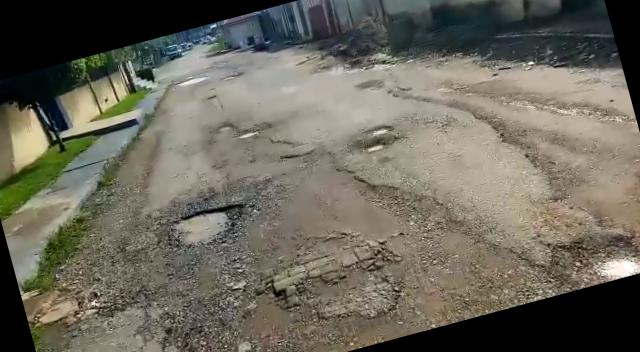pothole: (166, 199, 254, 251), (370, 122, 395, 138), (236, 128, 260, 141), (366, 140, 386, 154), (216, 122, 231, 134)
